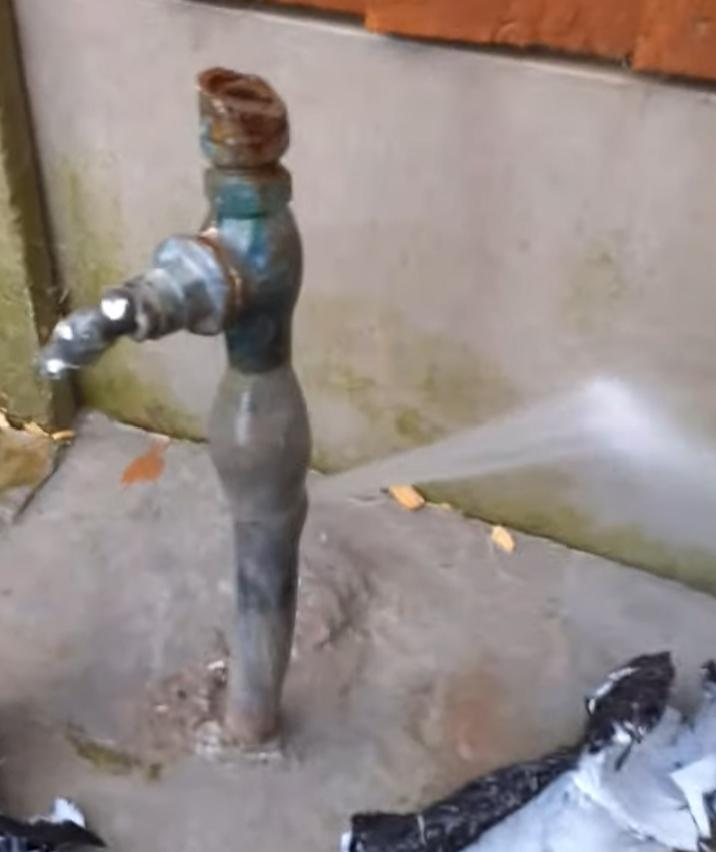pipe burst: (291, 385, 655, 517)
